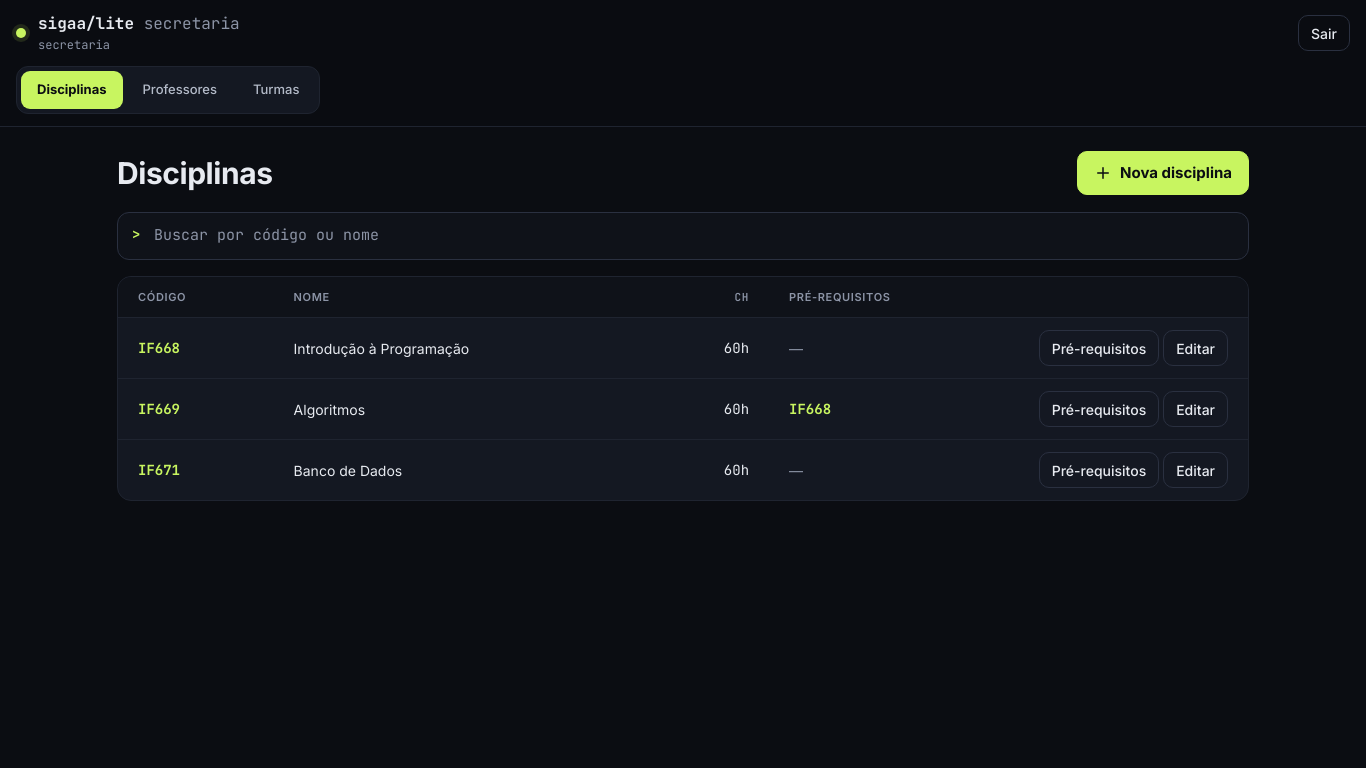
Test: secretaria define pré-requisitos › mostra a recusa por ciclo no formulário
Step 1. Click the button with aria-label "Pré-requisitos de IF668" → click(1099, 348), box left=1039, top=330, right=1159, bottom=366
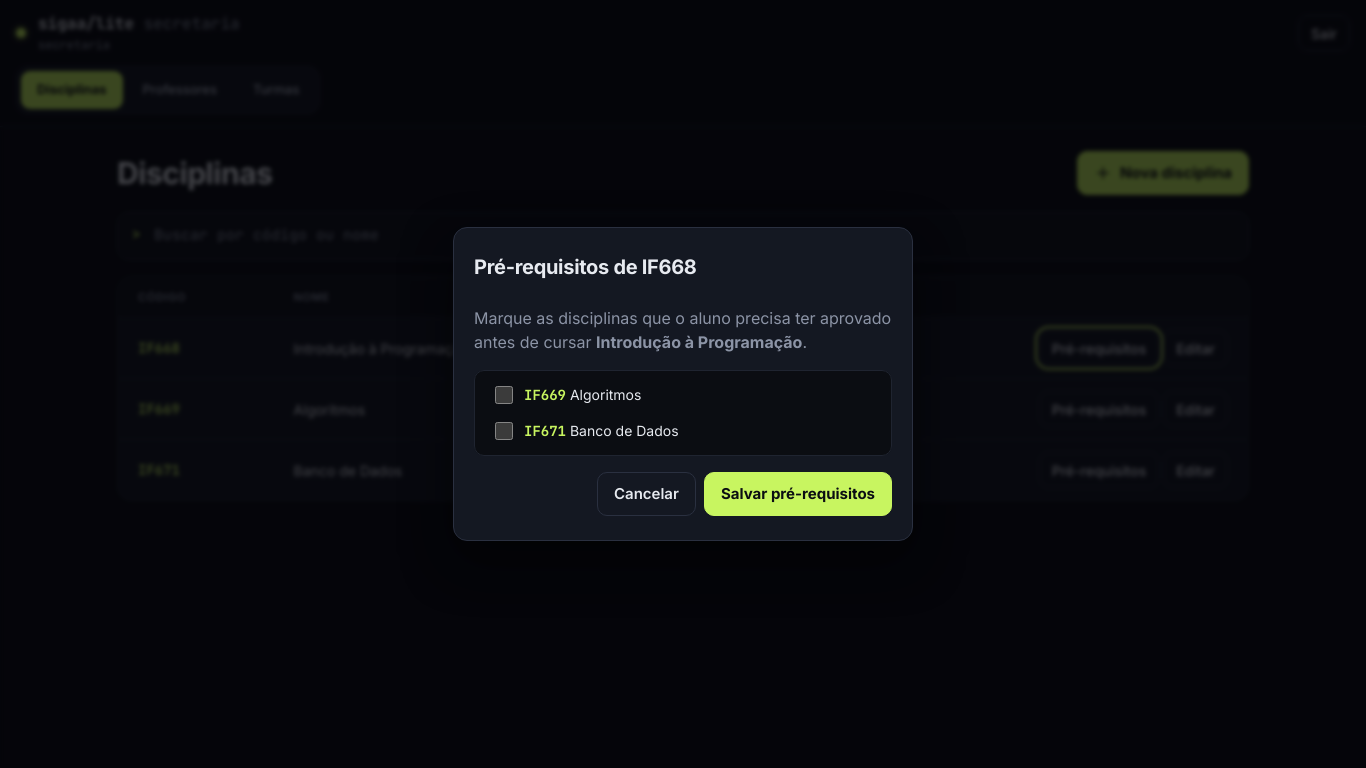
Step 2. Click the checkbox labelled "IF669 Algoritmos" → click(504, 395), box left=495, top=386, right=513, bottom=404
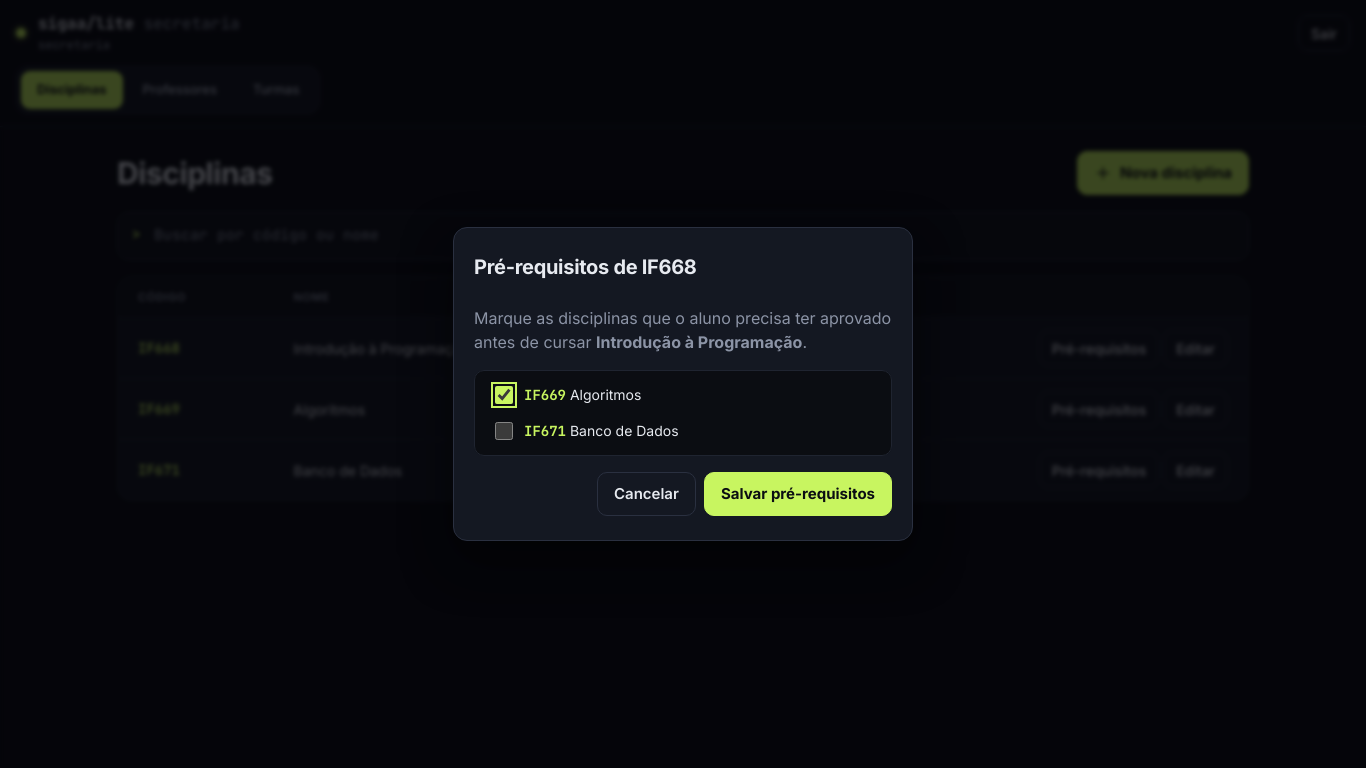
Step 3. Click the button "Salvar pré-requisitos" → click(798, 494), box left=704, top=472, right=892, bottom=516
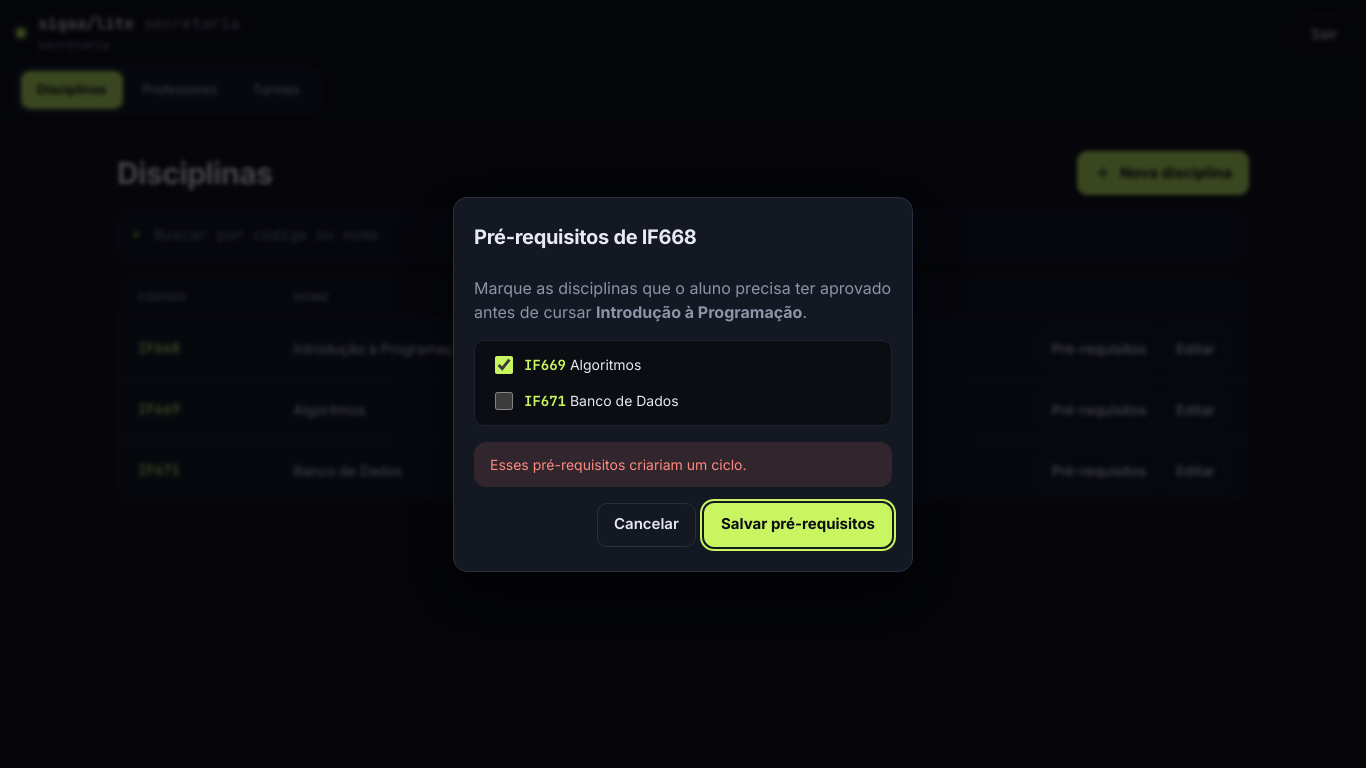
Check: the message reads "Esses pré-requisitos criariam um ciclo.", box left=490, top=456, right=746, bottom=472
